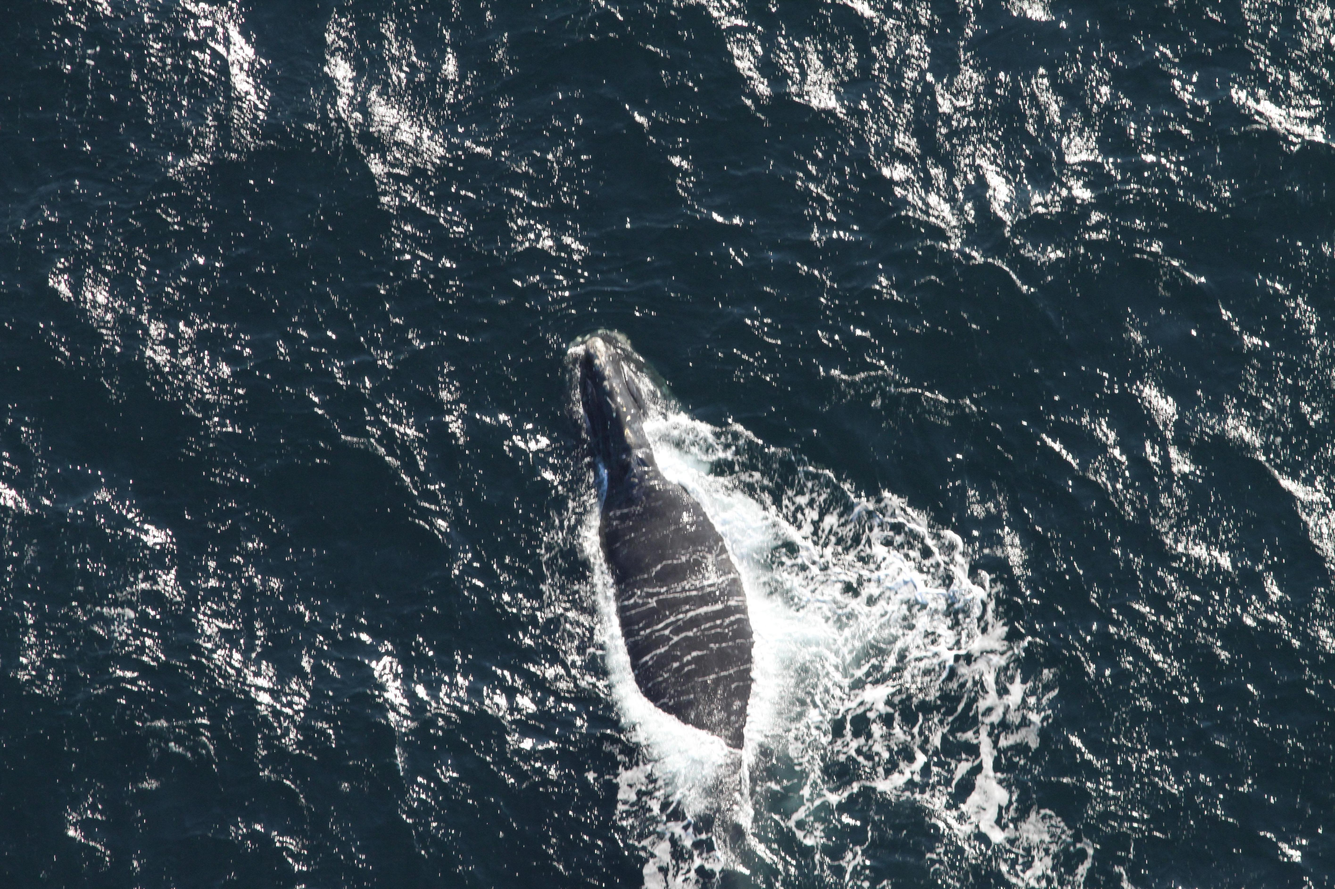whale: (550, 321, 798, 874)
